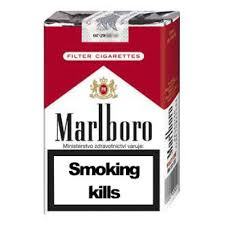marlboro: (45, 25, 163, 213)
